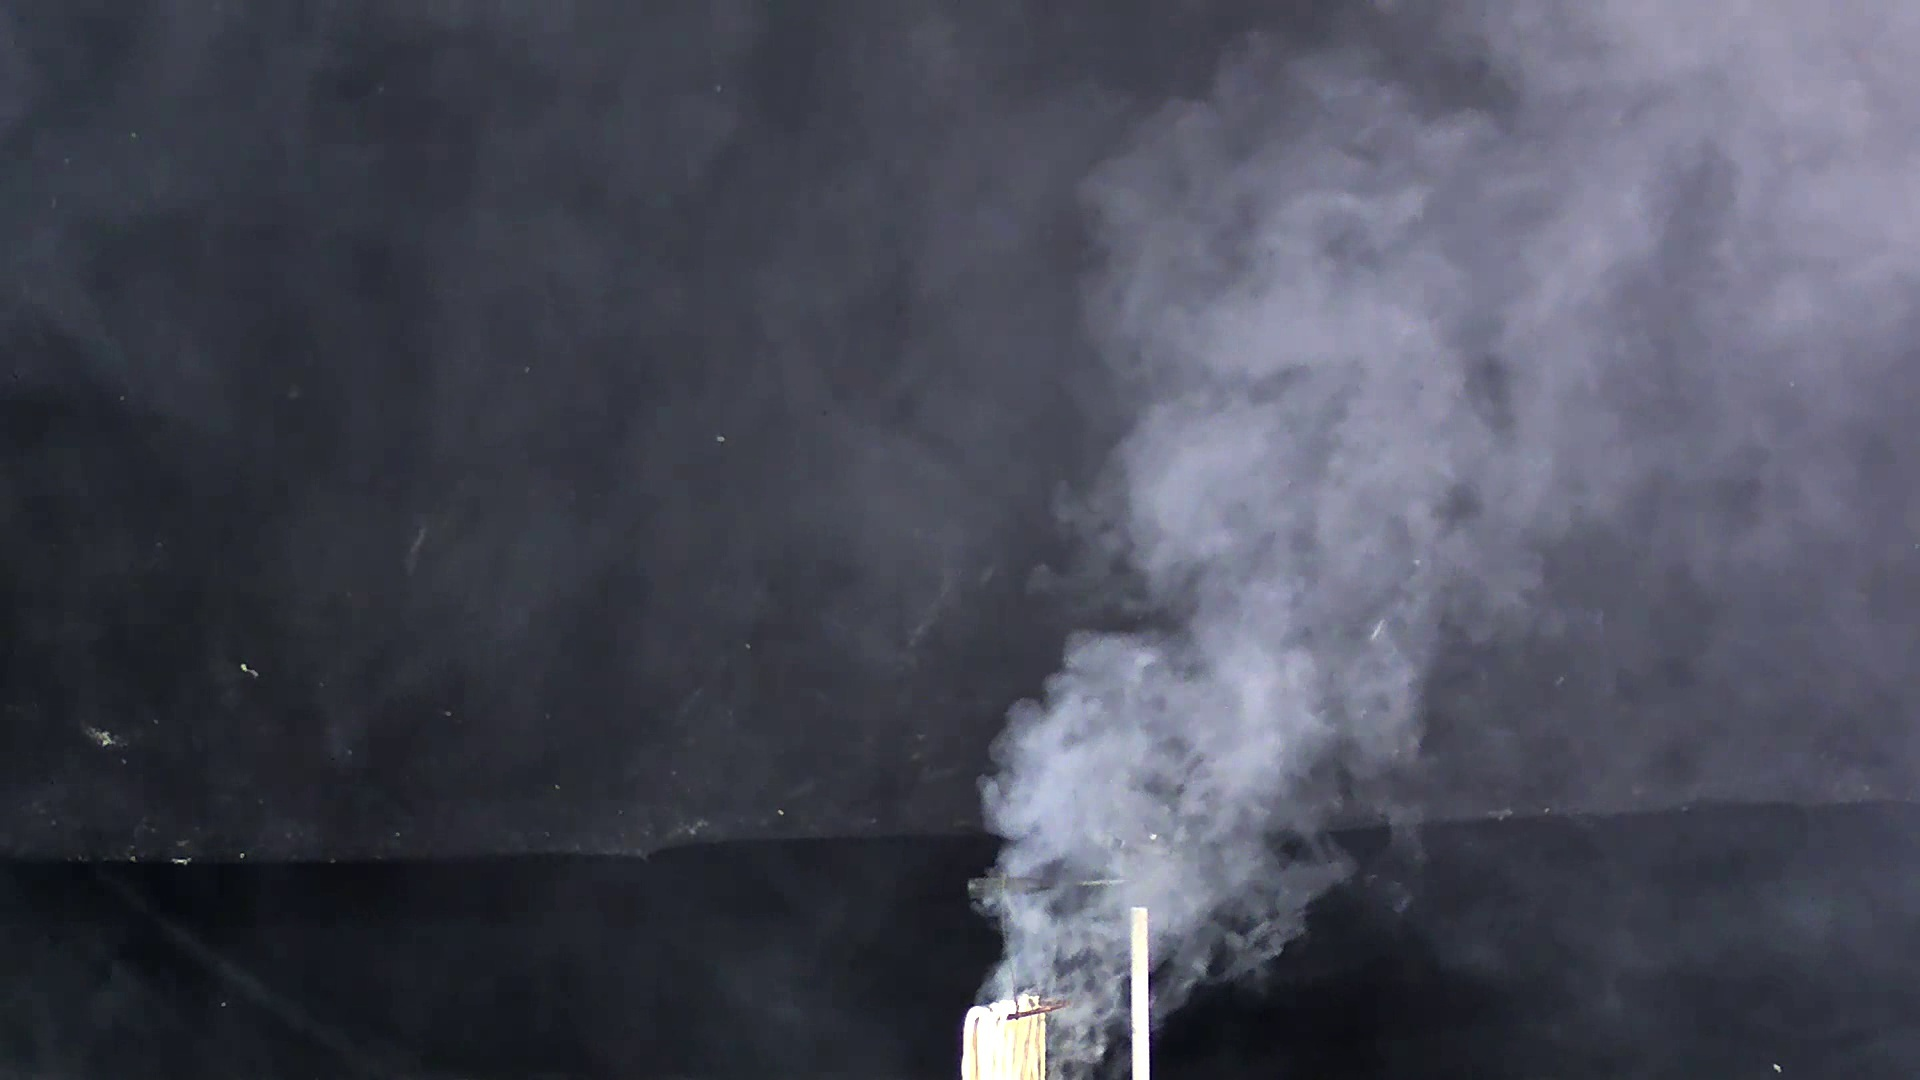smoke: (986, 138, 1573, 1011)
